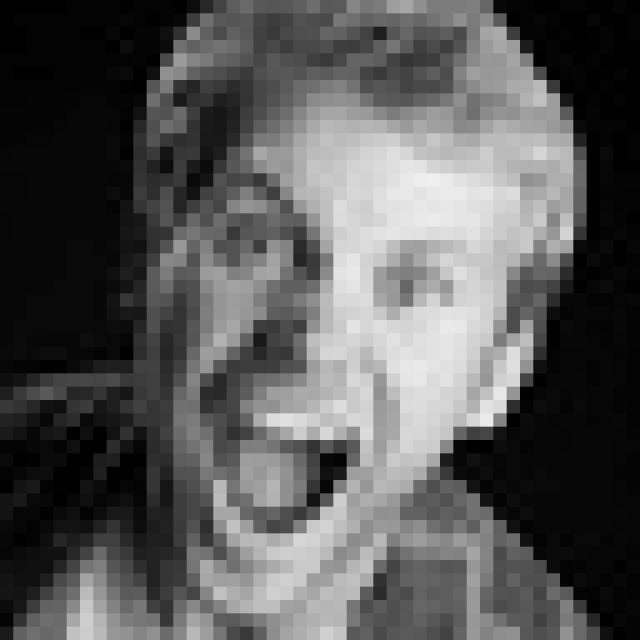angry: (180, 163, 482, 565)
